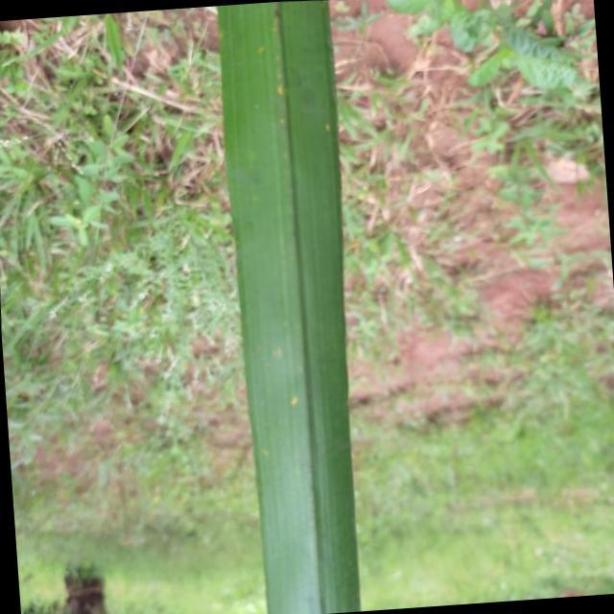Kalium: (219, 0, 360, 614)
